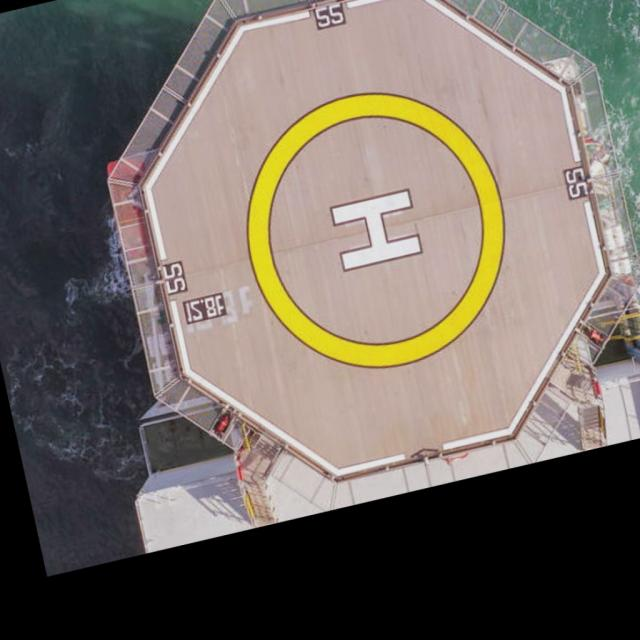helipad: (241, 86, 511, 372)
